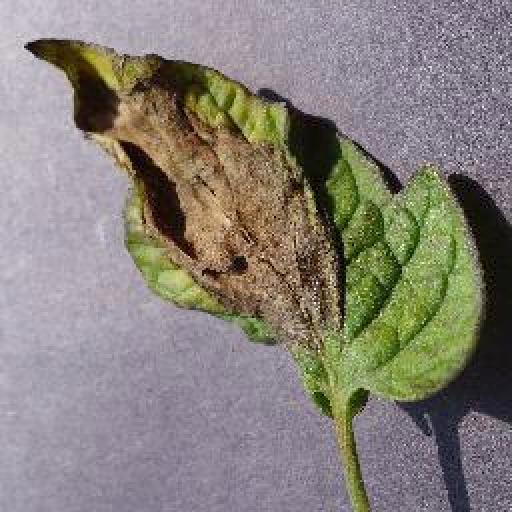disease_tomato: (24, 36, 484, 410)
